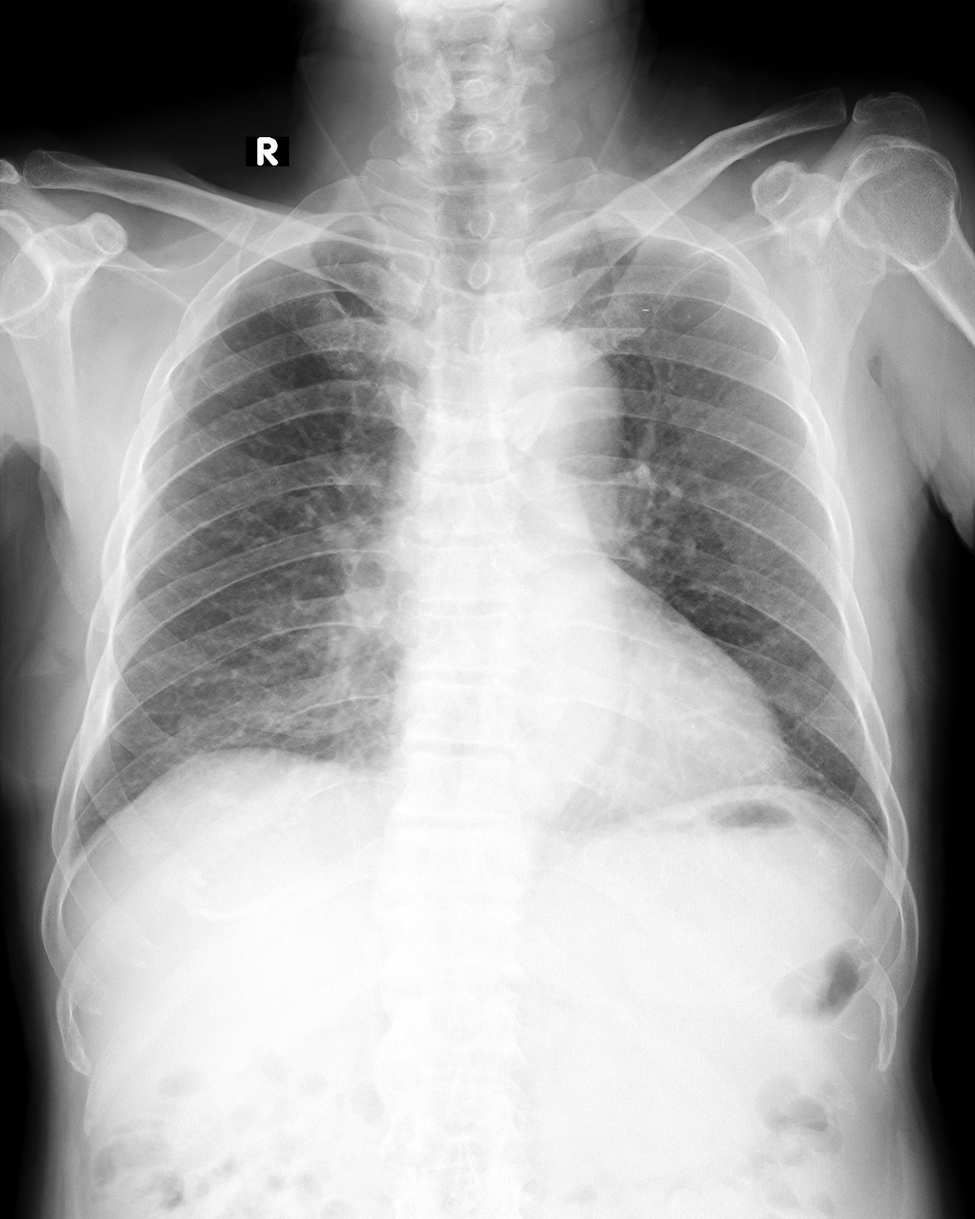Aortic enlargement: (483, 328, 625, 482)
Cardiomegaly: (386, 675, 788, 805)
